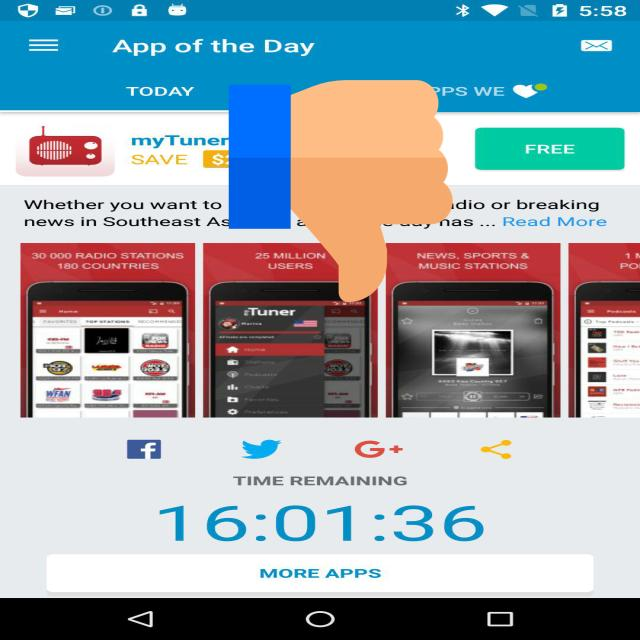obstruction: (228, 75, 452, 308)
